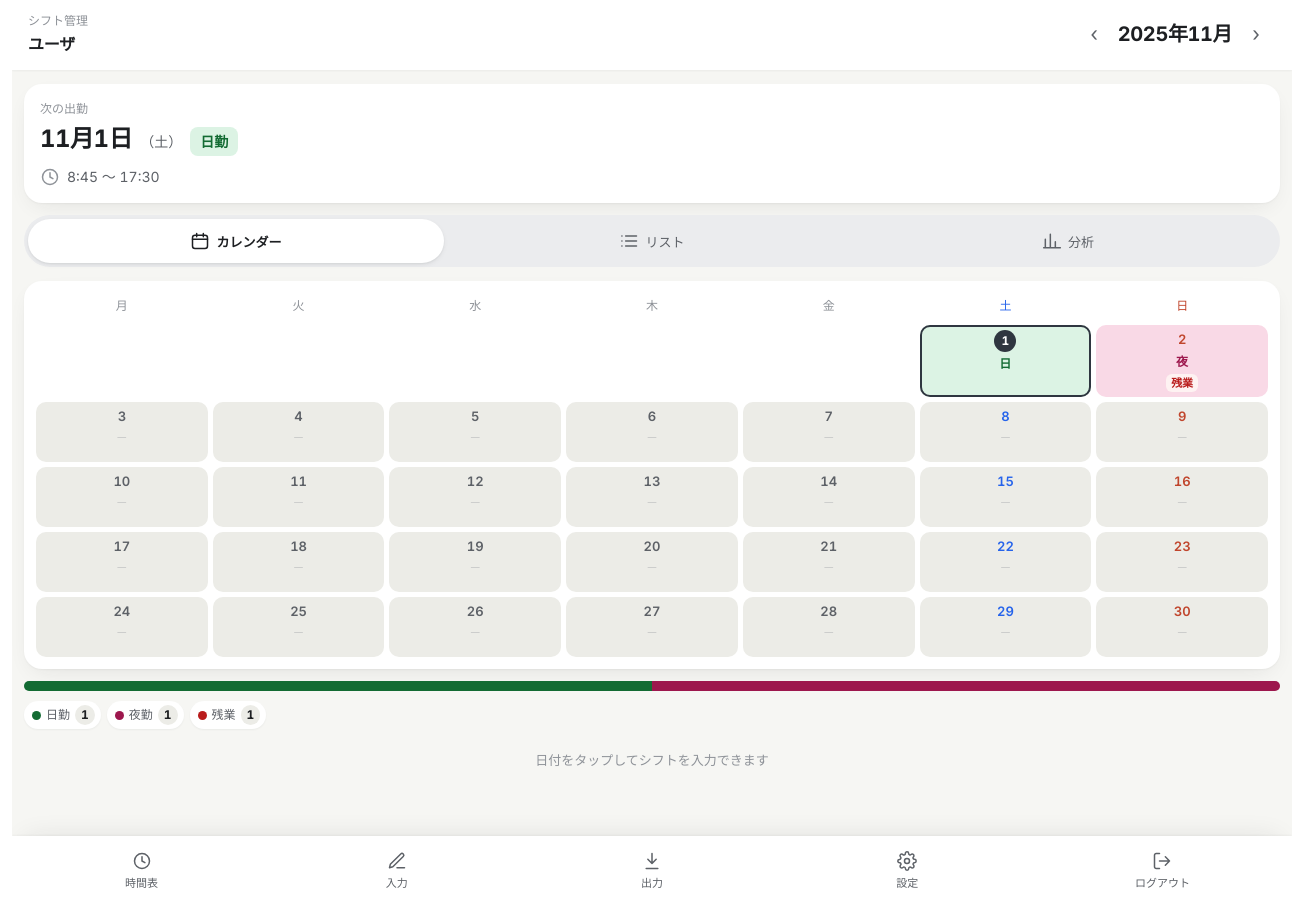
Test case: 分析ビュー › 棒をタップするとその日の内訳が出る
This screenshot has width=1304, height=900.
Step 1. Click the button "分析" → (1068, 241), box [860,219,1276,263]
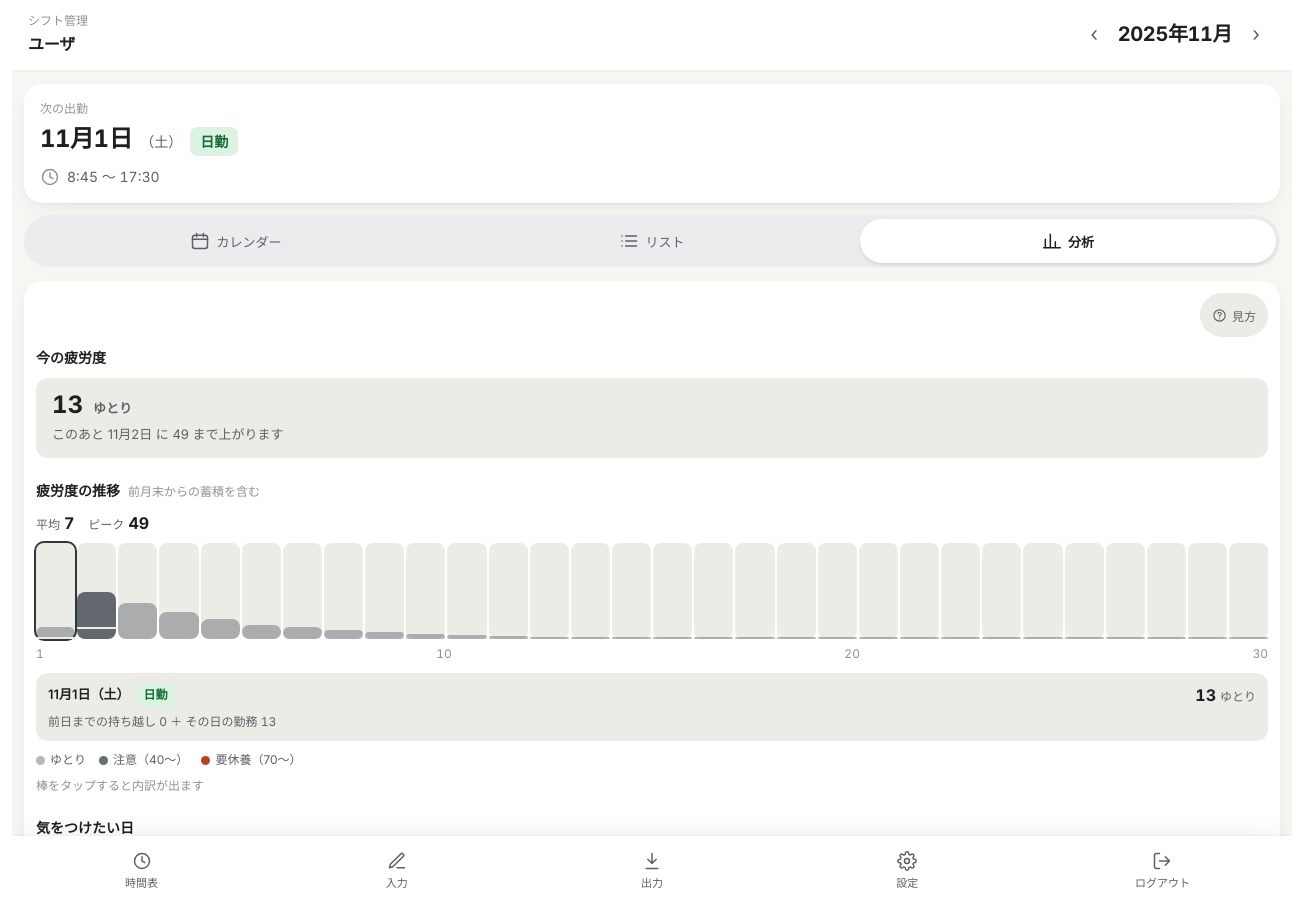
Step 2. Click the 2nd button with class "fatigue-chart__slot" → (97, 591), box [77,543,116,639]
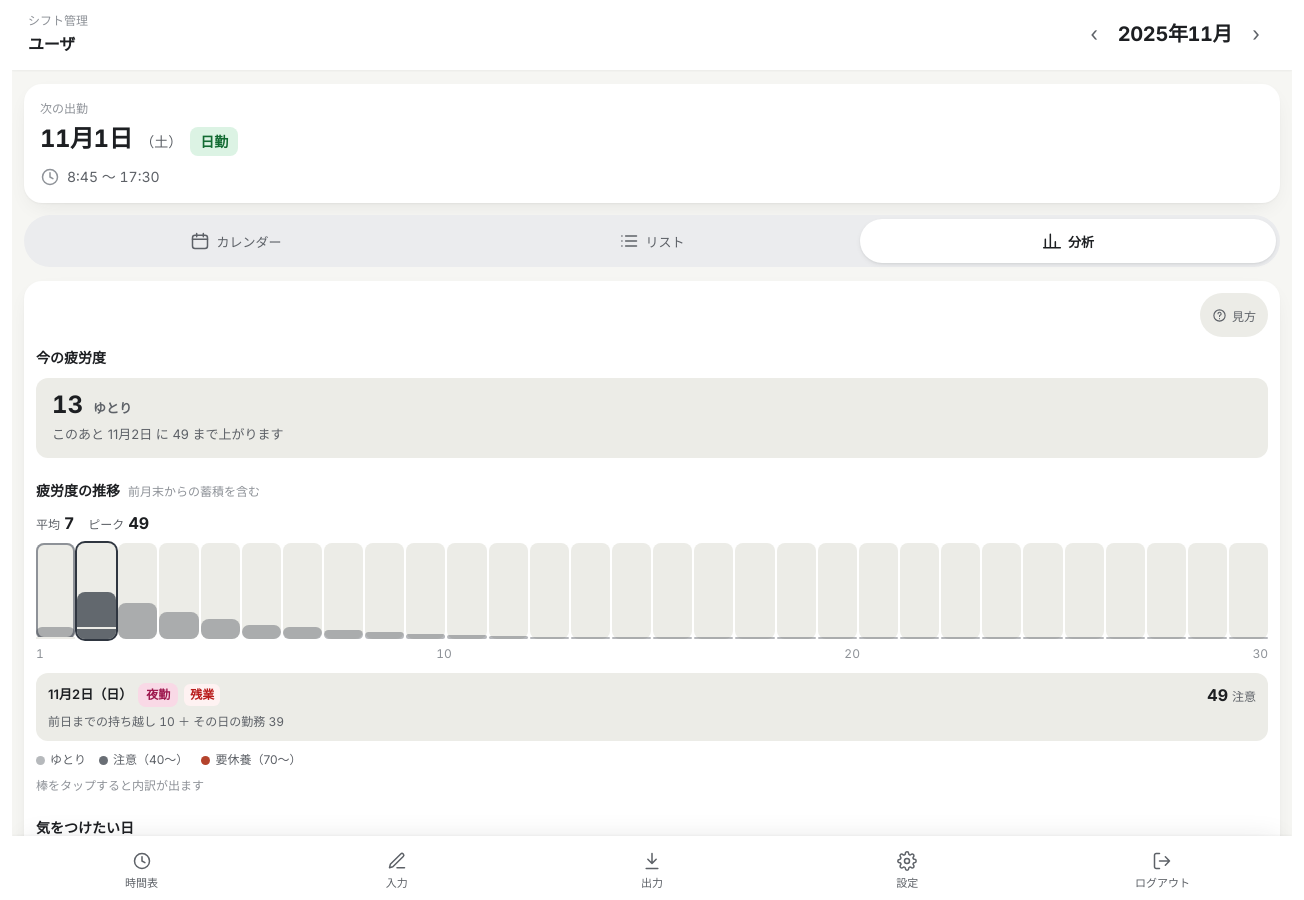
expect the element with class "fatigue-chart__detail" shows "11月2日": met, box [36,673,1268,741]
expect the element with class "fatigue-chart__detail" shows "夜勤": met, box [146,687,170,702]
expect the element with class "fatigue-chart__detail" shows "残業": met, box [190,687,214,702]
